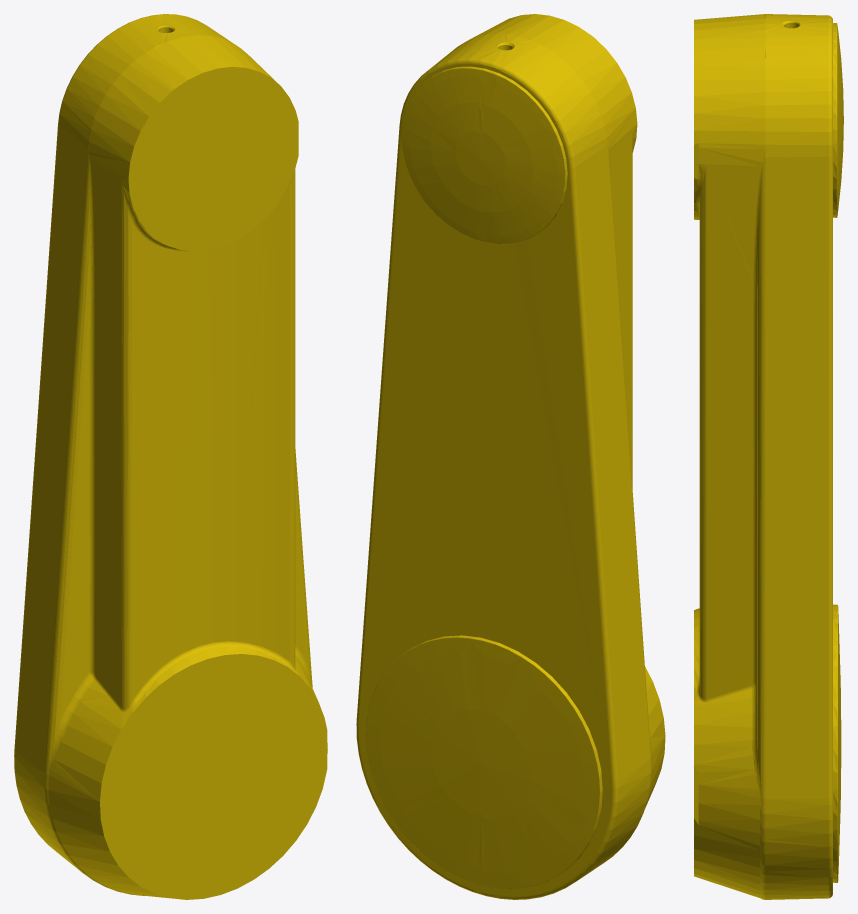
3 renders of one model, left to right at view 1: azimuth 30°, elevation 25°; view 2: azimuth 150°, elevation 25°; view 3: azimuth 270°, elevation 25°, orthographic. The views are drawn at different scales.
Visible parts, largest first — view 1: link_2; view 2: link_2; view 3: link_2.
Boxes of the visible parts, x1,y1,x2,y2 form: link_2: [14, 14, 327, 899]; link_2: [356, 14, 665, 899]; link_2: [694, 14, 843, 899].
Size of the model in its own units: 0.376 by 0.1797 by 1.14.
